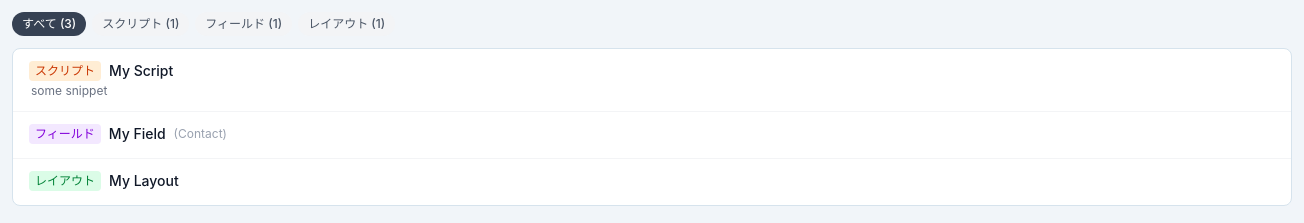
Test: SearchResults › filter_shows_only_scripts_when_script_filter_clicked
Expected: the text "My Script" is shown, [109, 61, 173, 81]
Expected: the text "My Field" is shown, [109, 124, 166, 144]
Note: スクリプトフィルターボタンをクリック（exact matchで結果行バッジと区別）
Click the button "スクリプト (1)". click: (141, 24)
box: [92, 12, 189, 36]
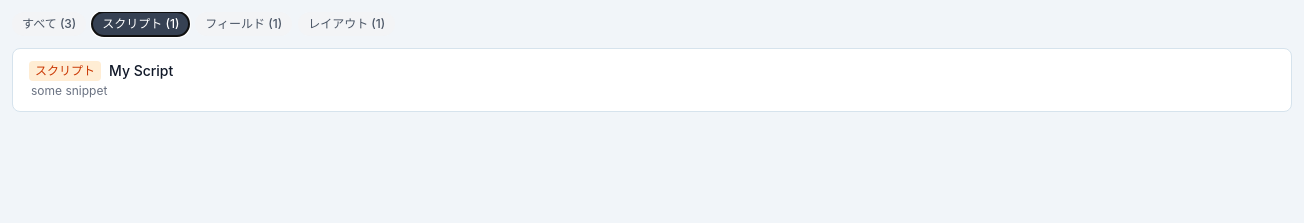
Expected: the text "My Script" is shown, [109, 61, 173, 81]
Expected: the button "My Field" is gone
Expected: the button "My Layout" is gone
